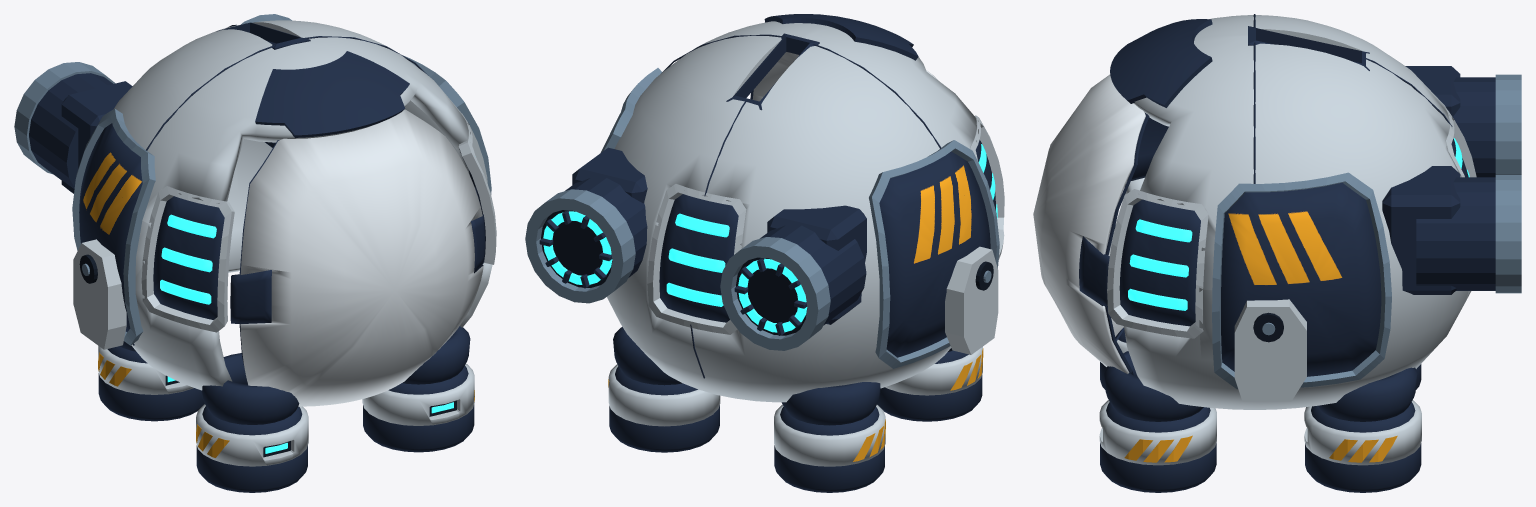
Rendered from mechaplayer-arcade-v4-accessories.fbx.
The picture shows the model from 3 angles, left to right: view 1: azimuth 30°, elevation 25°; view 2: azimuth 150°, elevation 25°; view 3: azimuth 270°, elevation 25°; orthographic projection. The views are drawn at different scales.
Visible parts, largest first — view 1: MechFacePlate, MechContinuousBackArmor, MechForeheadConnectedPlate, MechShoulderNavy_-1, MechRecessedSide_-1Inset, MechLowerGuard_-1, MechThrusterBody_-1, MechShoulderFrame_-1, MechRecessedSide_-1Rim, MechLegSocket_-1_0, MechBootSteelBelt_-1_0, MechBootSteelBelt_1_0 (+17 smaller); view 2: MechContinuousBackArmor, MechShoulderNavy_-1, MechRecessedRearInset, MechThrusterLip_1, MechThrusterLip_-1, MechShoulderFrame_-1, MechLowerGuard_-1, MechThrusterBody_-1, MechBootSteelBelt_1_1, MechRecessedRearRim, MechBootSteelBelt_-1_1, MechLegSocket_-1_1 (+24 smaller); view 3: MechContinuousBackArmor, MechShoulderNavy_1, MechFacePlate, MechThrusterBody_1, MechRecessedSide_1Inset, MechShoulderFrame_1, MechLowerGuard_1, MechForeheadConnectedPlate, MechThrusterMount_1, MechRecessedSide_1Rim, MechThrusterBody_-1, MechBootSteelBelt_1_1 (+19 smaller).
Boxes of the visible parts, box(x1,y1,x2,y2) form: MechFacePlate: box(240, 109, 483, 406); MechContinuousBackArmor: box(114, 20, 492, 390); MechForeheadConnectedPlate: box(255, 51, 409, 137); MechShoulderNavy_-1: box(79, 123, 142, 332); MechRecessedSide_-1Inset: box(153, 196, 224, 319); MechLowerGuard_-1: box(73, 239, 126, 349); MechThrusterBody_-1: box(29, 73, 112, 188); MechShoulderFrame_-1: box(72, 109, 155, 345); MechRecessedSide_-1Rim: box(141, 186, 234, 332); MechLegSocket_-1_0: box(201, 353, 299, 424); MechBootSteelBelt_-1_0: box(196, 404, 308, 466); MechBootSteelBelt_1_0: box(362, 363, 474, 425); MechContinuousBackArmor: box(607, 21, 978, 402); MechShoulderNavy_-1: box(879, 151, 990, 357); MechRecessedRearInset: box(659, 194, 738, 322); MechThrusterLip_1: box(525, 189, 635, 303); MechThrusterLip_-1: box(720, 237, 830, 350); MechShoulderFrame_-1: box(869, 140, 999, 368); MechLowerGuard_-1: box(945, 246, 998, 354); MechThrusterBody_-1: box(760, 225, 866, 325); MechBootSteelBelt_1_1: box(608, 364, 720, 426); MechRecessedRearRim: box(647, 184, 746, 334); MechBootSteelBelt_-1_1: box(774, 404, 885, 466); MechLegSocket_-1_1: box(781, 382, 880, 425); MechContinuousBackArmor: box(1124, 15, 1471, 409); MechShoulderNavy_1: box(1221, 182, 1381, 376); MechFacePlate: box(1033, 74, 1145, 373); MechThrusterBody_1: box(1416, 177, 1495, 290); MechRecessedSide_1Inset: box(1119, 199, 1200, 326); MechShoulderFrame_1: box(1212, 172, 1391, 389); MechLowerGuard_1: box(1234, 299, 1306, 401); MechForeheadConnectedPlate: box(1110, 19, 1212, 107); MechThrusterMount_1: box(1382, 166, 1460, 294); MechRecessedSide_1Rim: box(1107, 189, 1208, 338); MechThrusterBody_-1: box(1453, 77, 1495, 177); MechBootSteelBelt_1_1: box(1304, 400, 1421, 465).
Size of the model in its own units: 1427 by 1297 by 1460.
9 materials, 2 textured.
